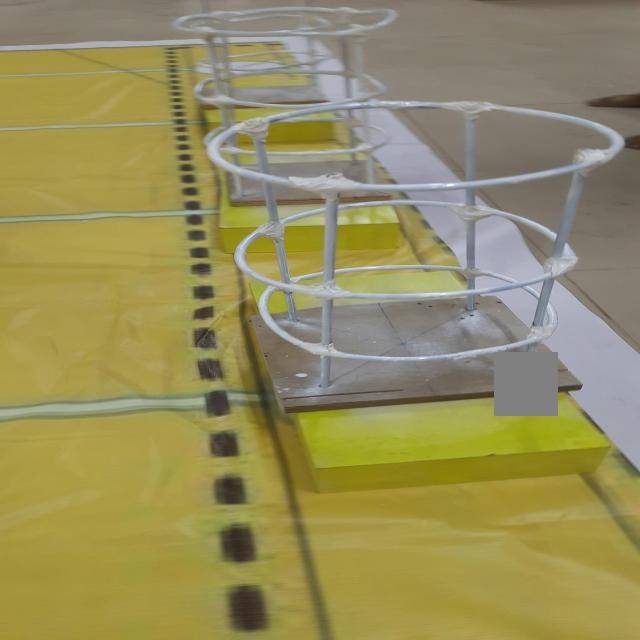silo: (214, 90, 609, 400), (186, 4, 411, 201)
